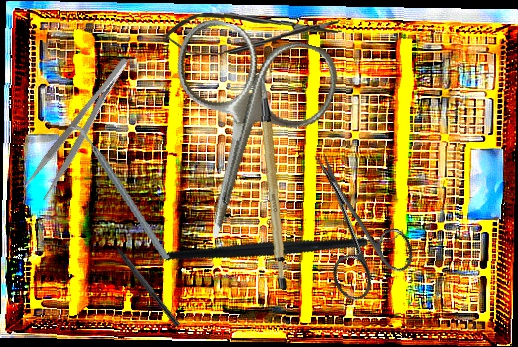Chopper: (165, 162, 405, 323), (67, 113, 172, 272), (103, 229, 187, 328)
Dressing Forceps: (21, 54, 144, 203)
Iris Scissors: (135, 12, 346, 259), (279, 135, 423, 306)
Micro Scissor: (162, 10, 343, 56)
Scalpel Handle: (249, 76, 301, 290)
